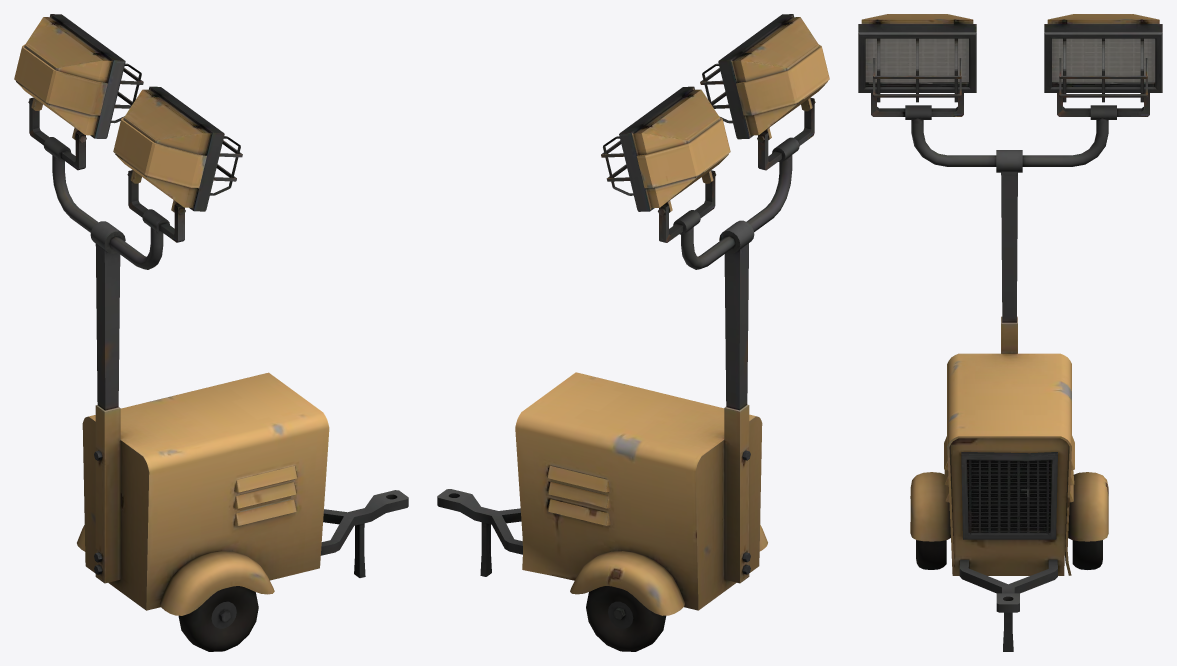
3 renders of one model, left to right at view 1: azimuth 30°, elevation 25°; view 2: azimuth 150°, elevation 25°; view 3: azimuth 270°, elevation 25°, orthographic. The views are drawn at different scales.
Parts seen in each view (by area): view 1: body0_model0_lod0_mesh0; view 2: body0_model0_lod0_mesh0; view 3: body0_model0_lod0_mesh0.
Part boxes in pixels (box(x1,y1,x2,y2)): body0_model0_lod0_mesh0: box(14, 14, 408, 651); body0_model0_lod0_mesh0: box(437, 14, 829, 651); body0_model0_lod0_mesh0: box(858, 14, 1162, 651).
Size of the model in its own units: 92.73 by 153 by 80.63.
Materials: 1 (1 with a texture image).
